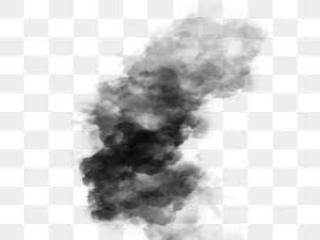smoke: (82, 17, 259, 234)
